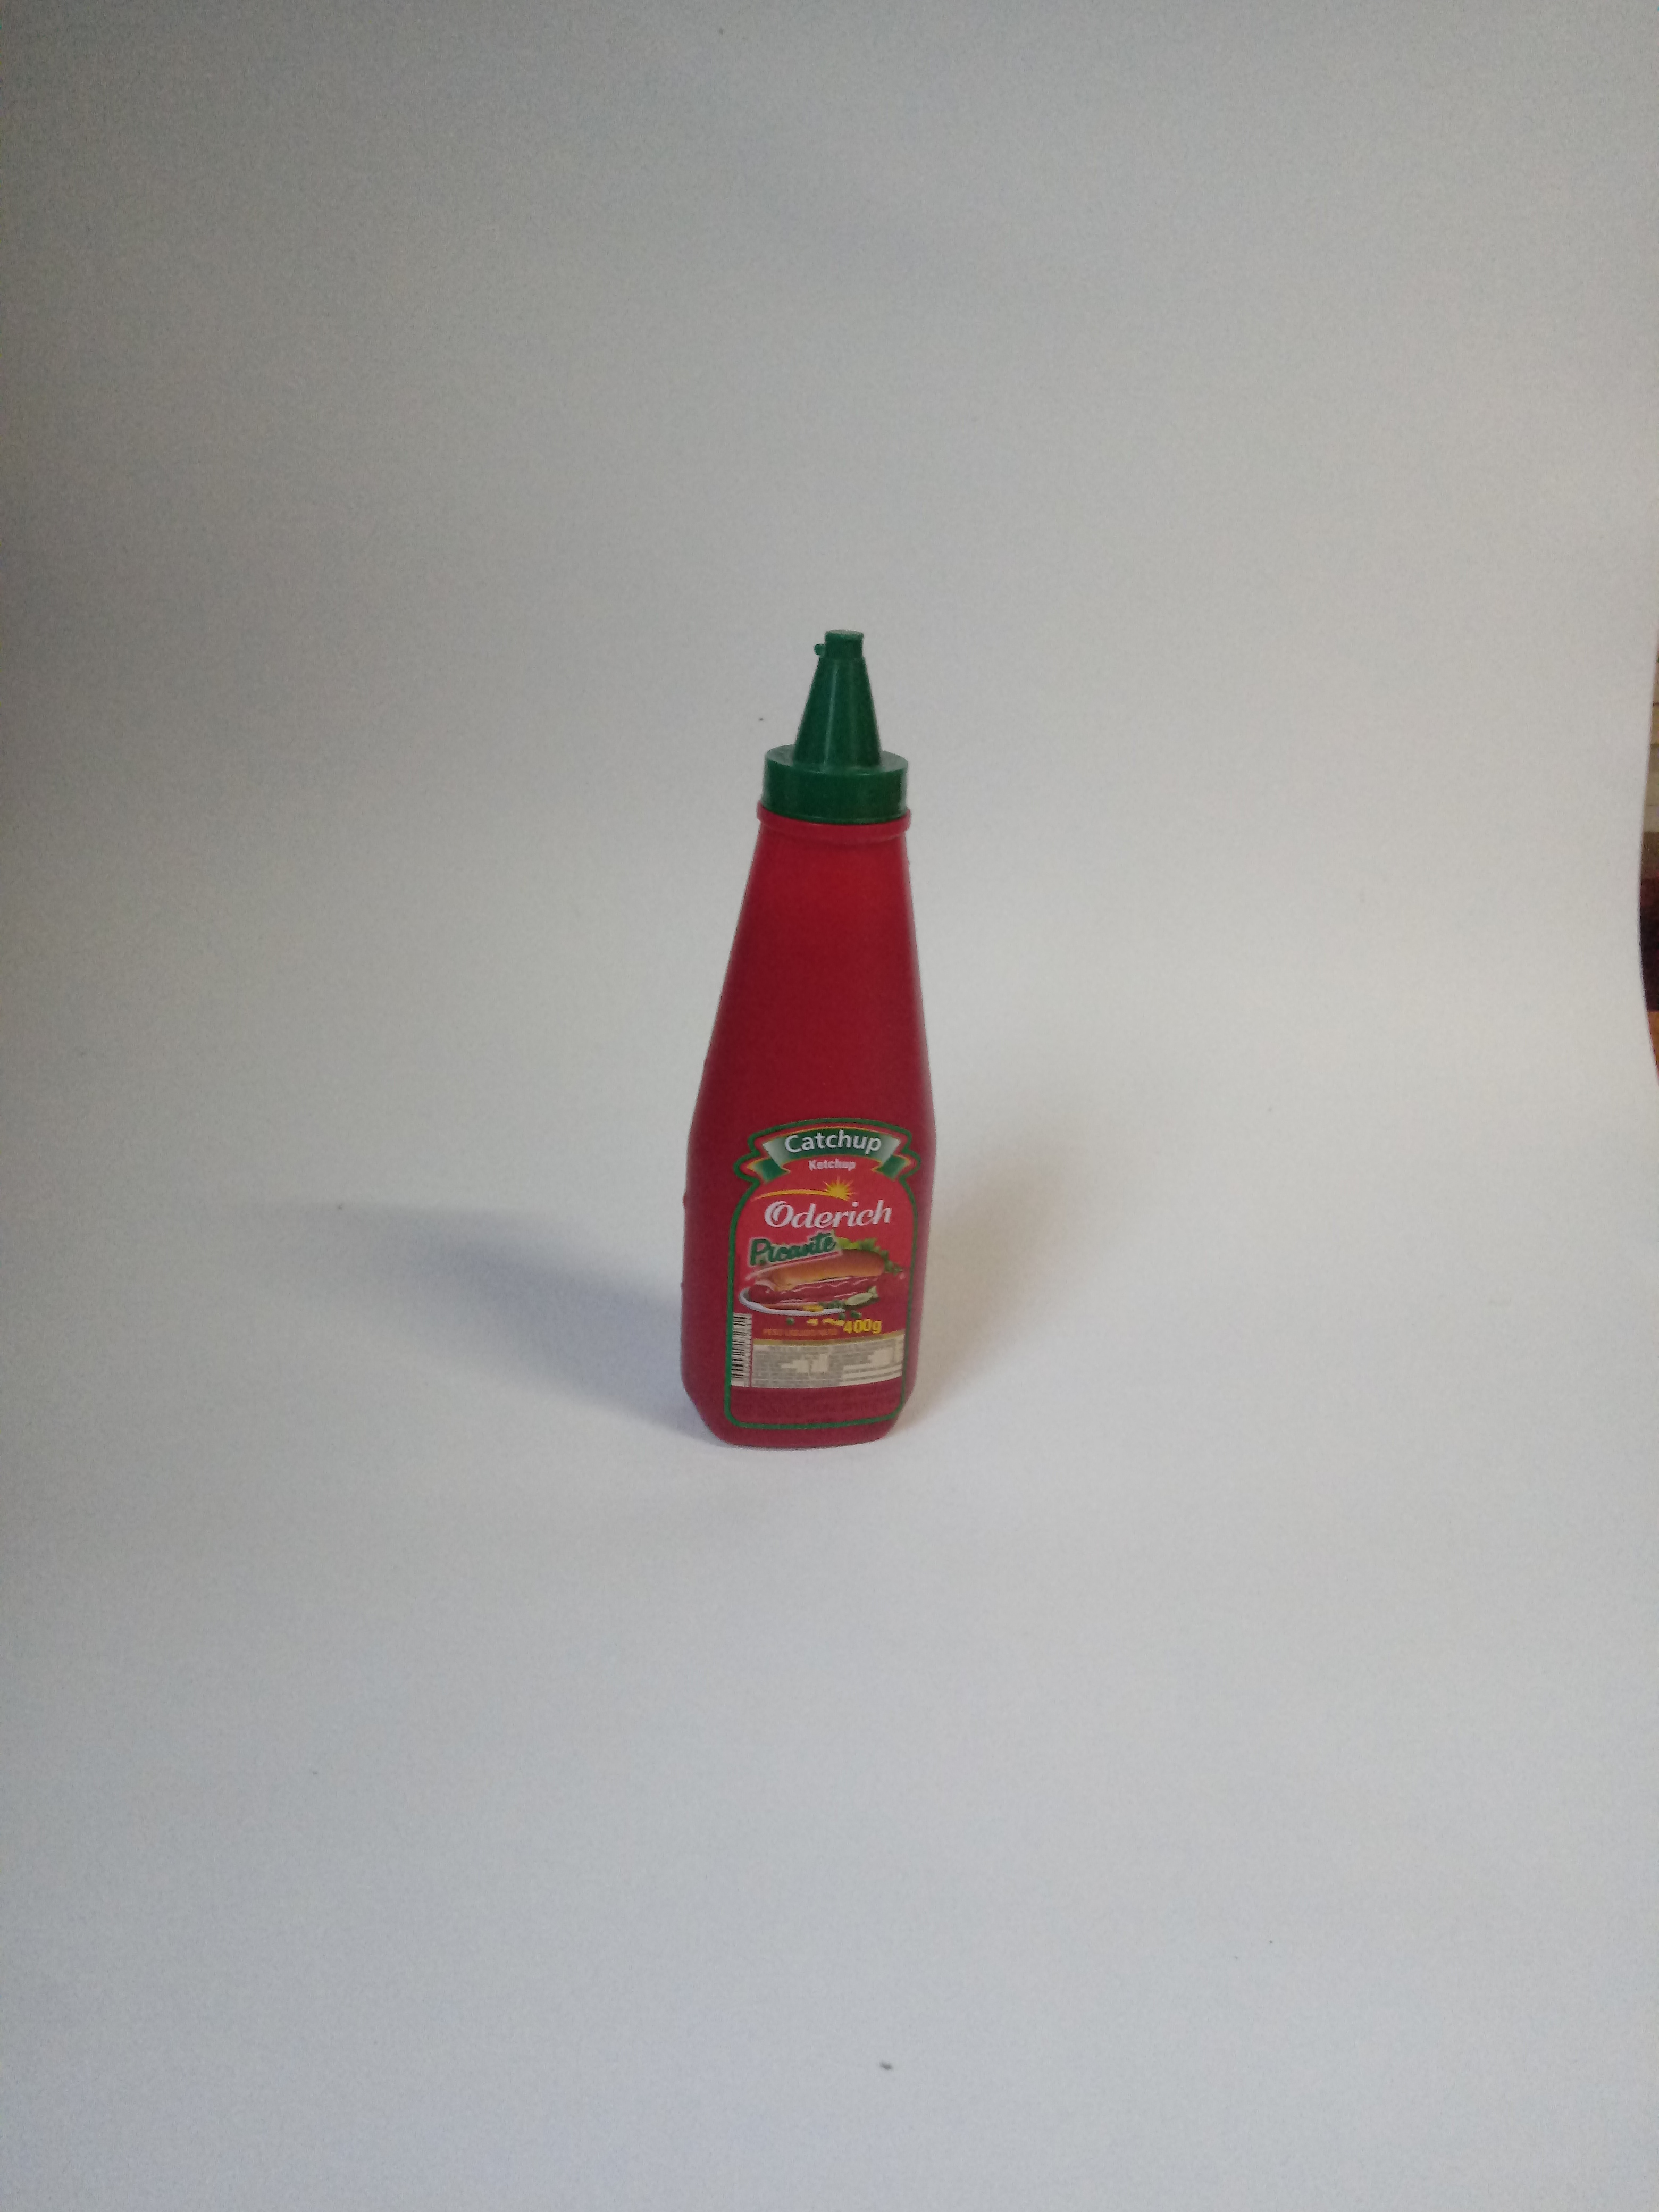catchup-oderich: (671, 611, 955, 1482)
